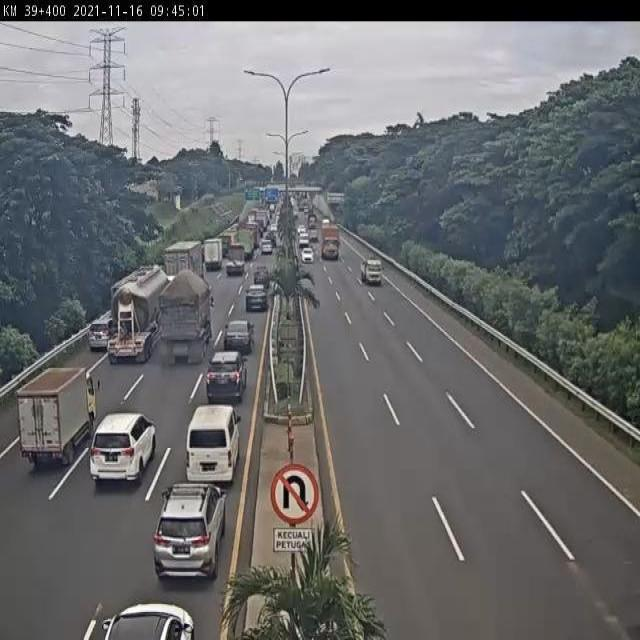Car: (154, 482, 227, 582), (90, 413, 156, 488), (101, 602, 194, 640), (207, 350, 249, 402), (223, 319, 255, 354), (88, 317, 116, 352), (244, 284, 268, 313), (254, 266, 270, 284), (300, 248, 314, 264), (260, 239, 273, 255)
Truck: (17, 366, 100, 467), (108, 263, 174, 366), (158, 271, 216, 365), (162, 239, 206, 279), (224, 240, 246, 276), (320, 223, 341, 259), (360, 256, 384, 284), (203, 238, 223, 271), (235, 228, 255, 260), (220, 232, 235, 255), (307, 213, 317, 230)
Van: (185, 404, 243, 488)
